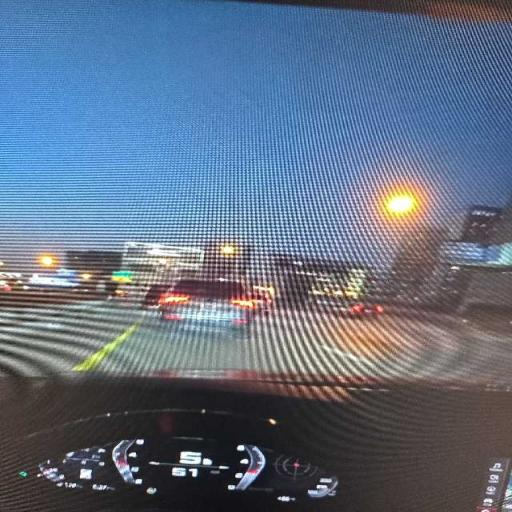car: (160, 279, 257, 328), (314, 298, 384, 317), (142, 284, 169, 309), (252, 286, 275, 314)
lane: (0, 301, 511, 379), (0, 302, 133, 375)
